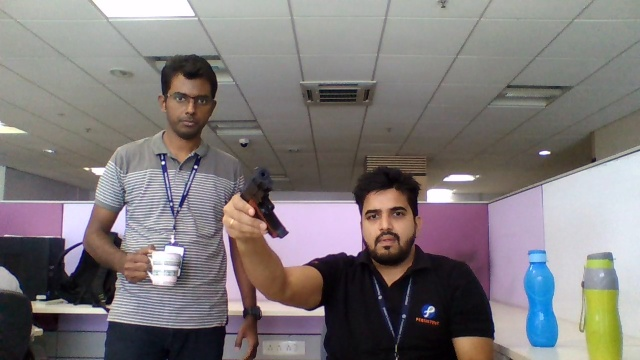gun: (241, 168, 273, 199)
